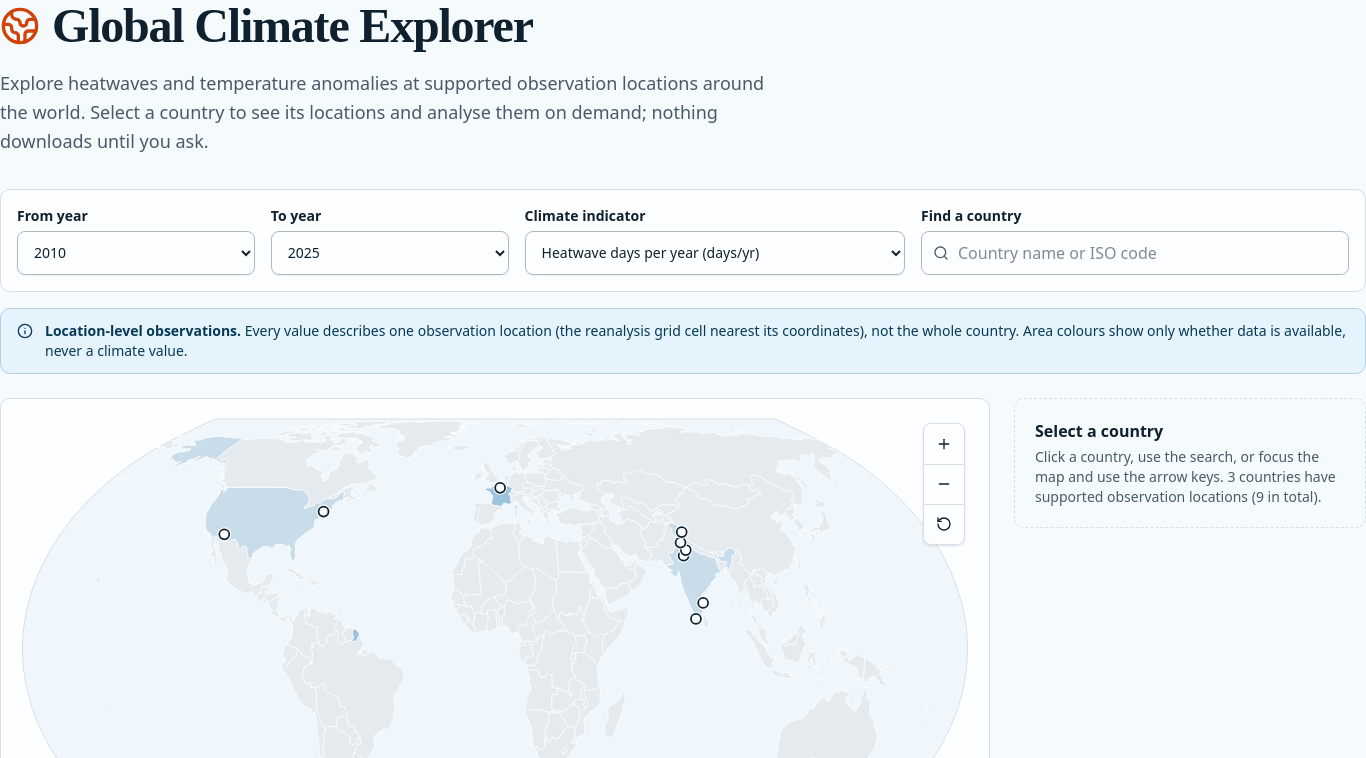
Global Climate Explorer › finds a country by ISO code and analyses all its locations on request
Type "USA" into the dropdown labelled "Find a country" at (1135, 253), box [921, 231, 1349, 275]
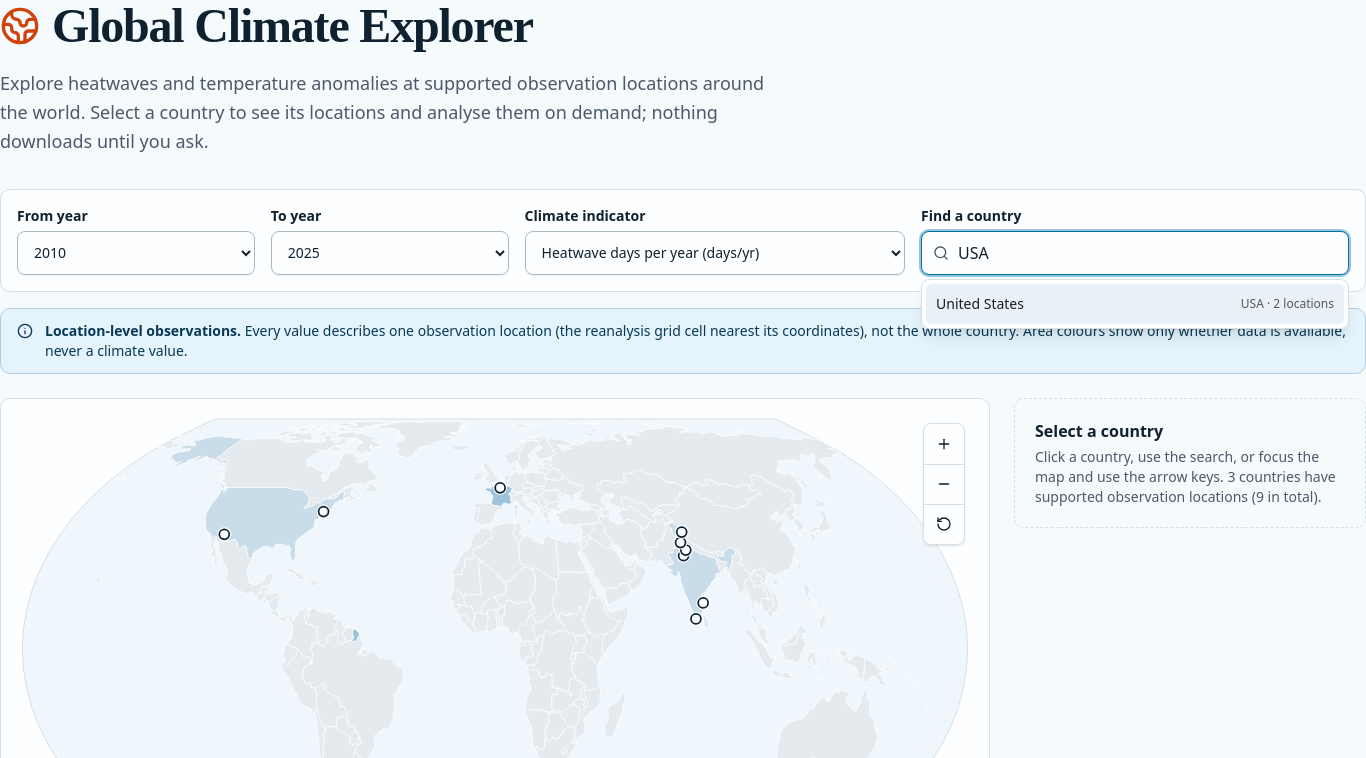
Expected: the number of options is 1, [926, 284, 1344, 324]
Press Enter
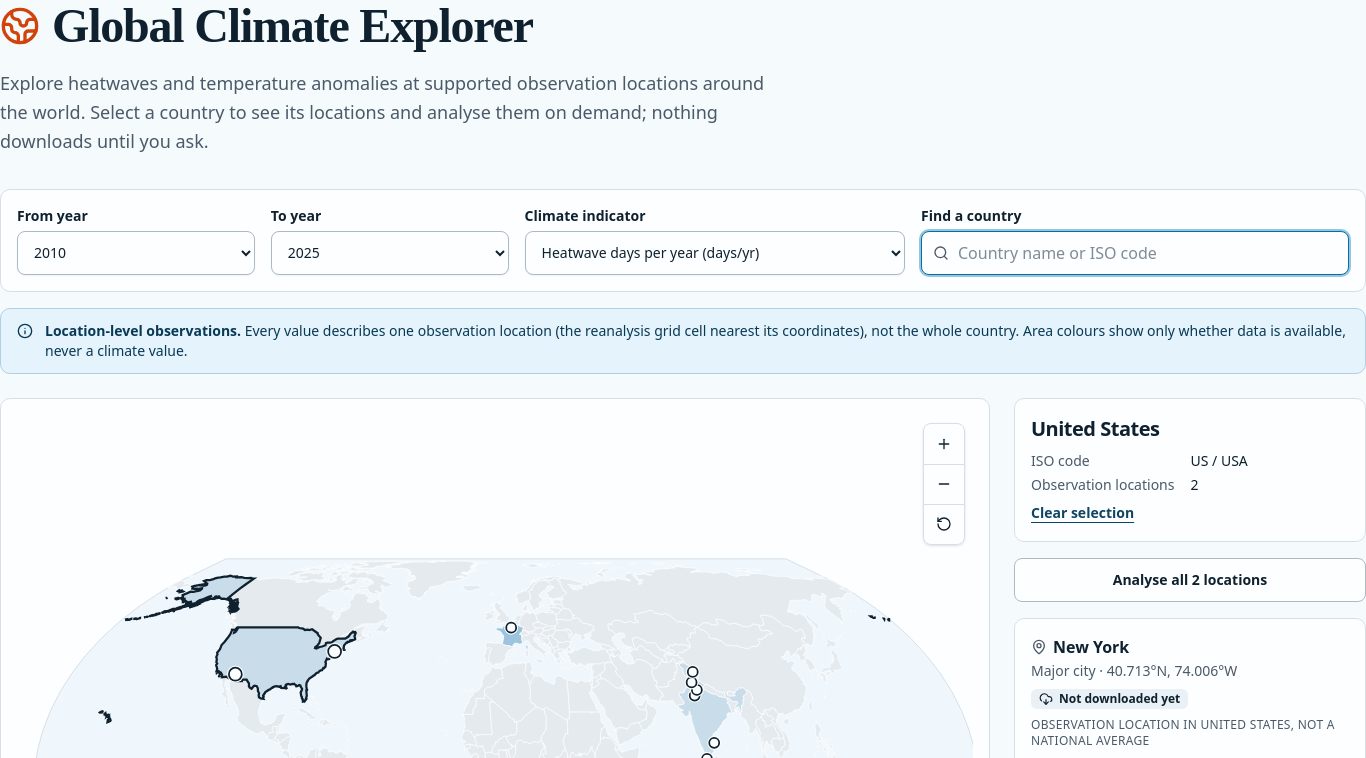
Expected: the heading "United States" is shown, [1031, 415, 1160, 442]
Click the button "Analyse all 2 locations" at (1190, 580), box [1014, 558, 1365, 602]
(page scrolled)
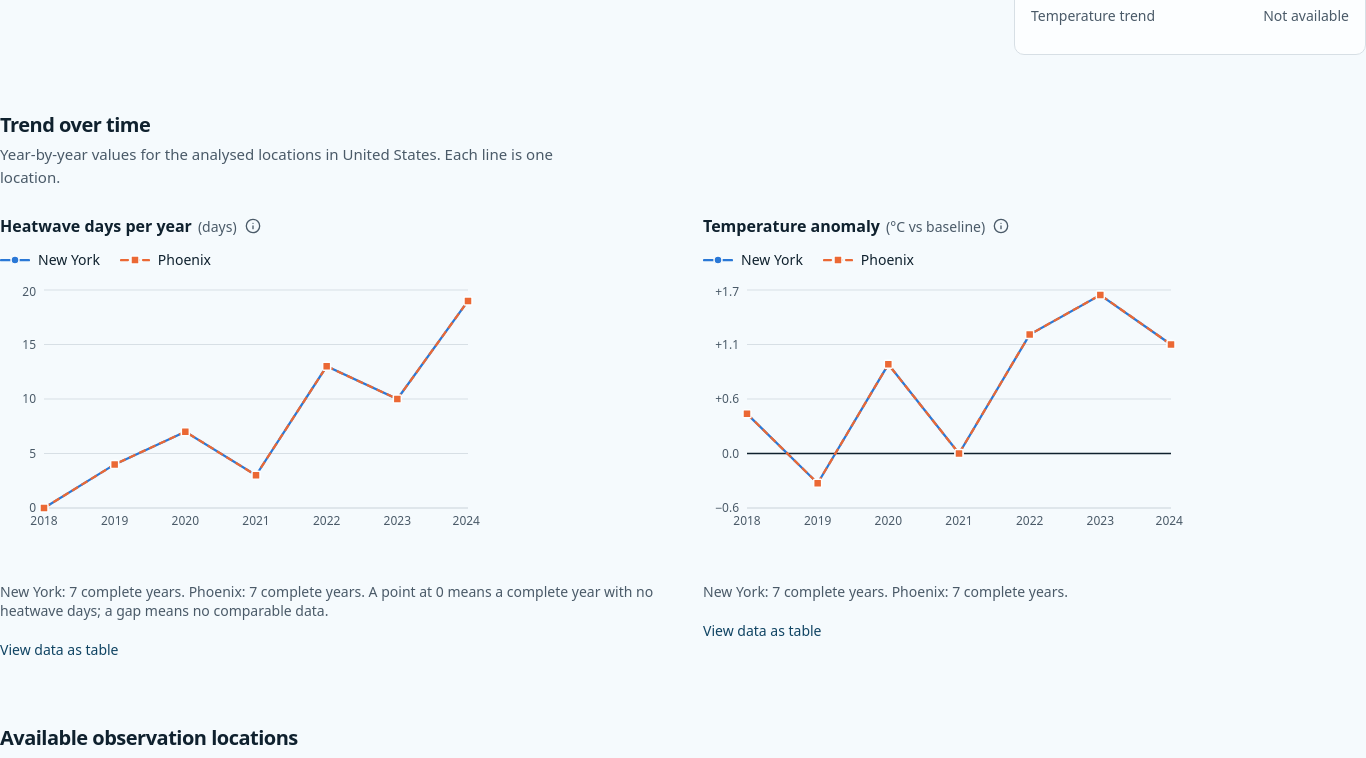
Expected: the element with test id "compare-chart-heatwave_days" is shown, [0, 214, 663, 668]
